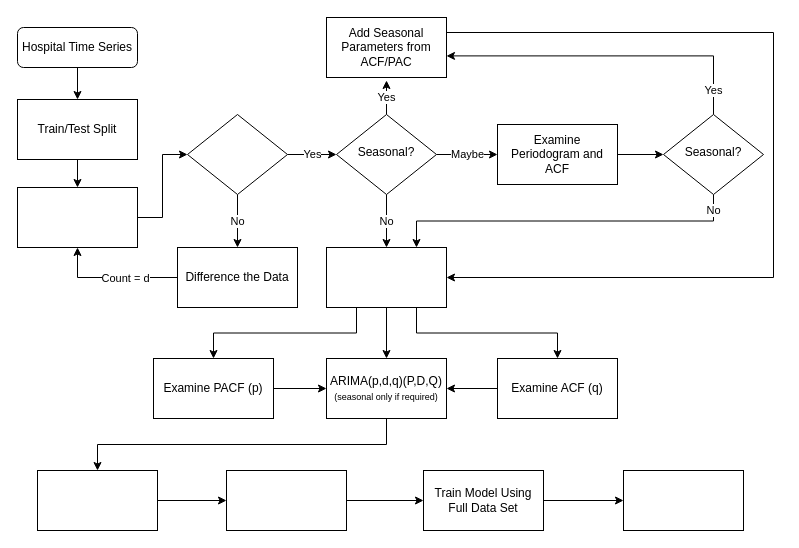
Some shapes in this 799 by 548 pixel diagram are drawn without their labels. Each missing label, with the centre of its shape:
Differences (d): the point at 386,277
Forecast into the Future: the point at 683,500
Forecast Validation Data: the point at 97,500
Optimize Model for MAPE: the point at 286,500
Run Stationarity Test (ADF / KPSS): the point at 77,217
Stationary?: the point at 237,154
